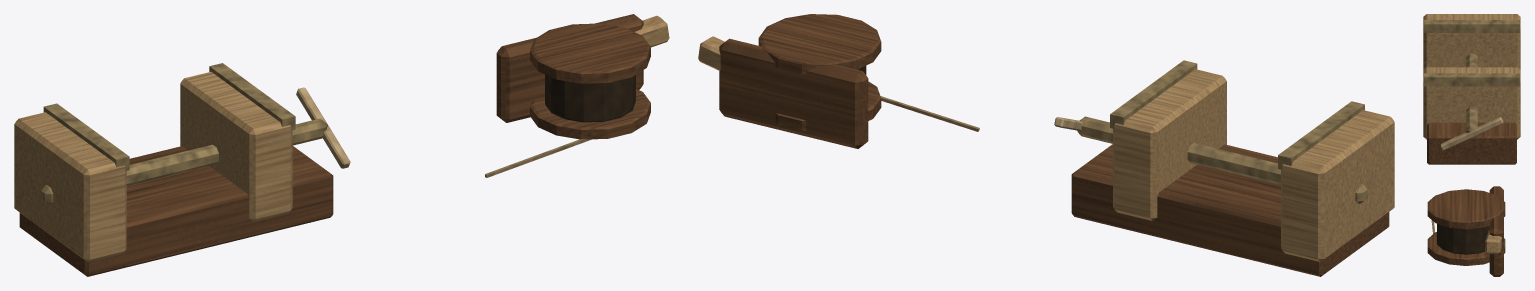
Rendered from WestViseAndInk_LOD0.fbx.
3 renders of one model, left to right at view 1: azimuth 30°, elevation 25°; view 2: azimuth 150°, elevation 25°; view 3: azimuth 270°, elevation 25°, orthographic. The views are drawn at different scales.
Parts seen in each view (by area): view 1: WestViseAndInk; view 2: WestViseAndInk; view 3: WestViseAndInk.
Boxes of the visible parts, <box> form: WestViseAndInk: <box>14,14,669,276</box>; WestViseAndInk: <box>698,14,1394,276</box>; WestViseAndInk: <box>1423,14,1520,276</box>.
Bounding box in the file's own units: 1.39 × 0.236 × 0.278.
Materials: 1 (1 with a texture image).
